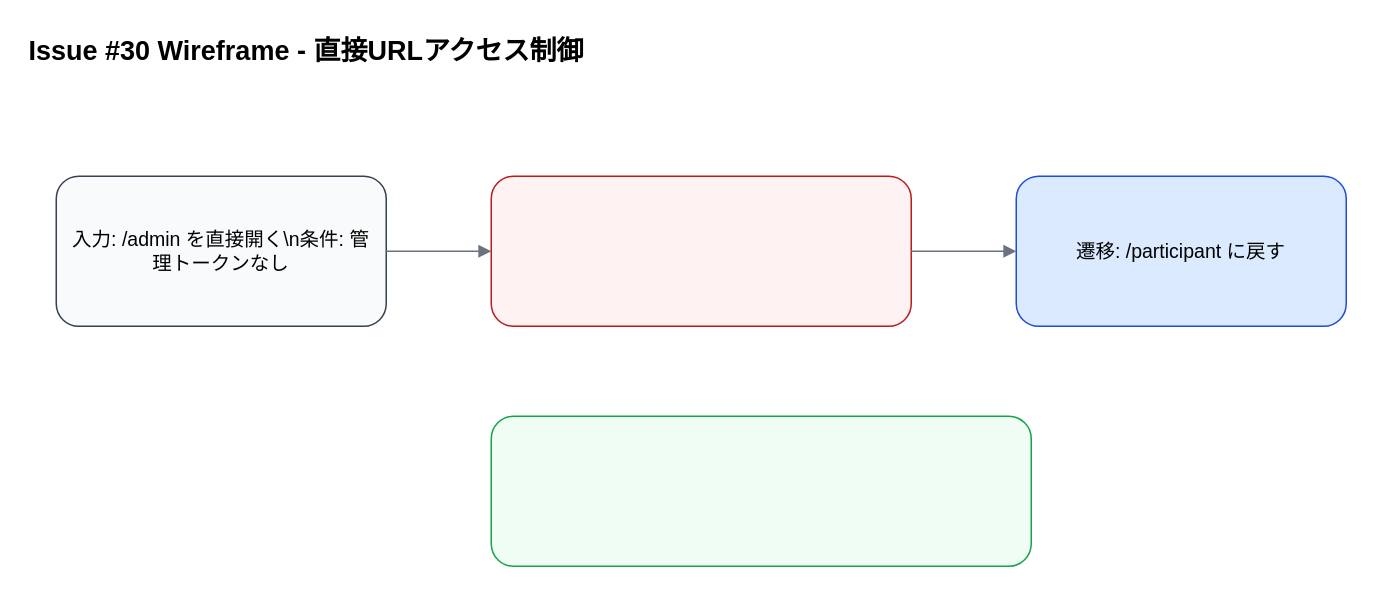
Image size: 1373x593. Some labels were removed from this diagram. The shapes that lost their labels are listed below. From the top down, each one's centre as x and y in pixels, then its label:
At point (700, 250): "拒否メッセージ表示\n'管理画面へのアクセス権がありません'".
At point (760, 490): "Acceptance Checkpoint\n[✓] 直接URLアクセス時の制御が明示される".
